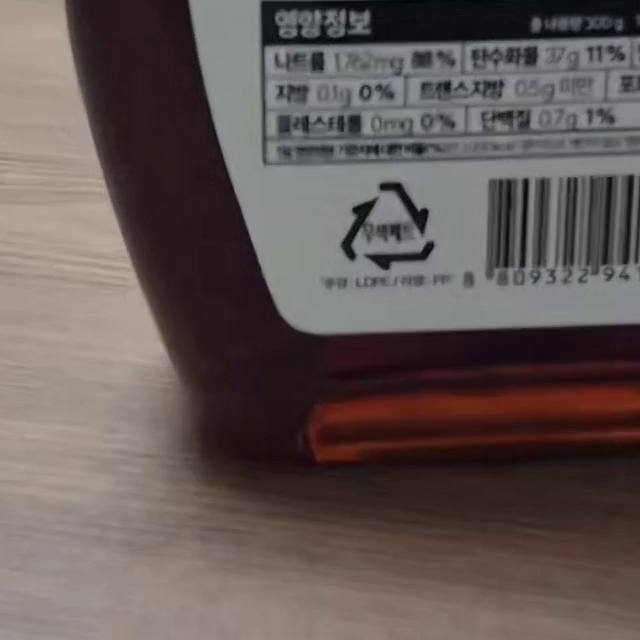ColorlessPet: (339, 183, 435, 270)
